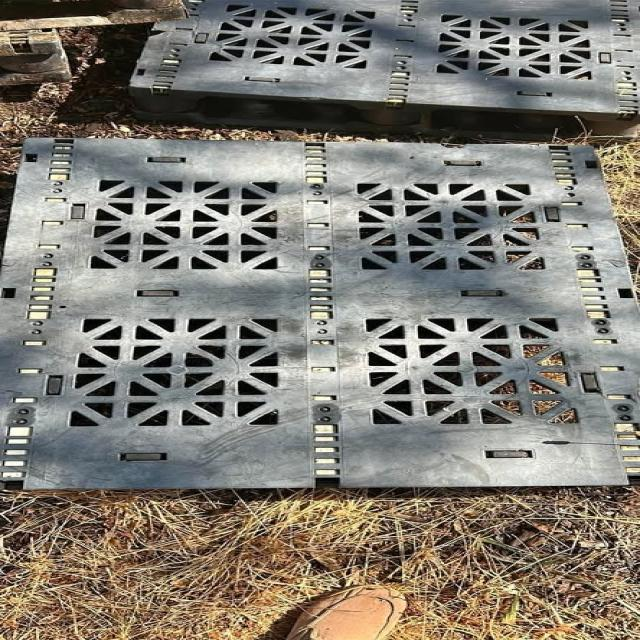non-igps: (1, 134, 640, 505), (120, 0, 640, 150)
